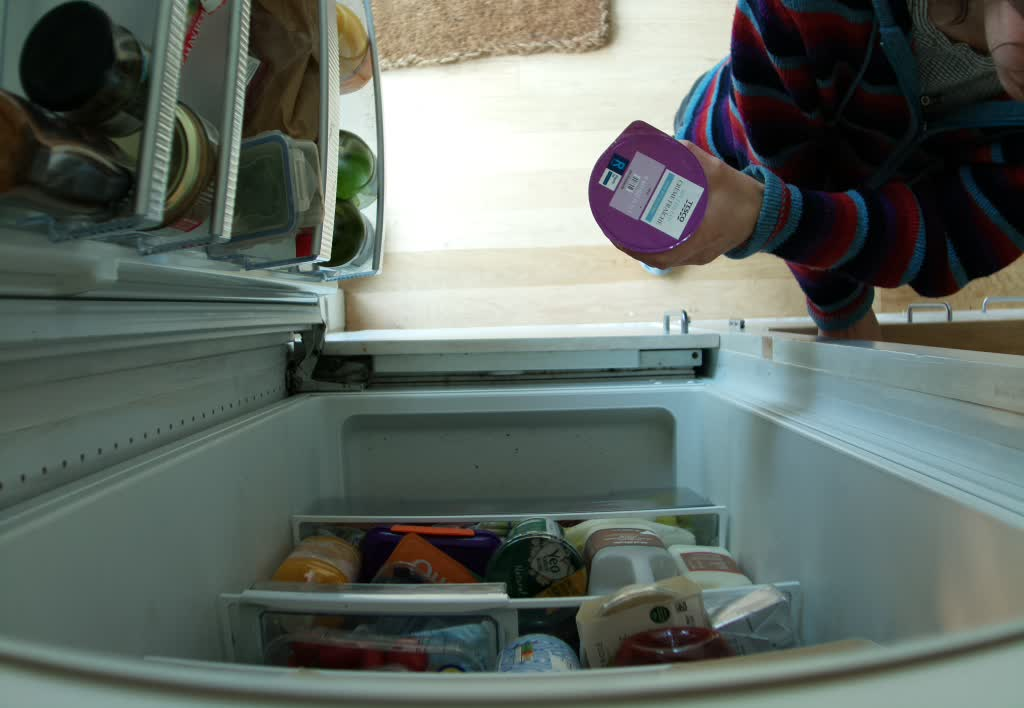cream: (589, 115, 715, 264)
